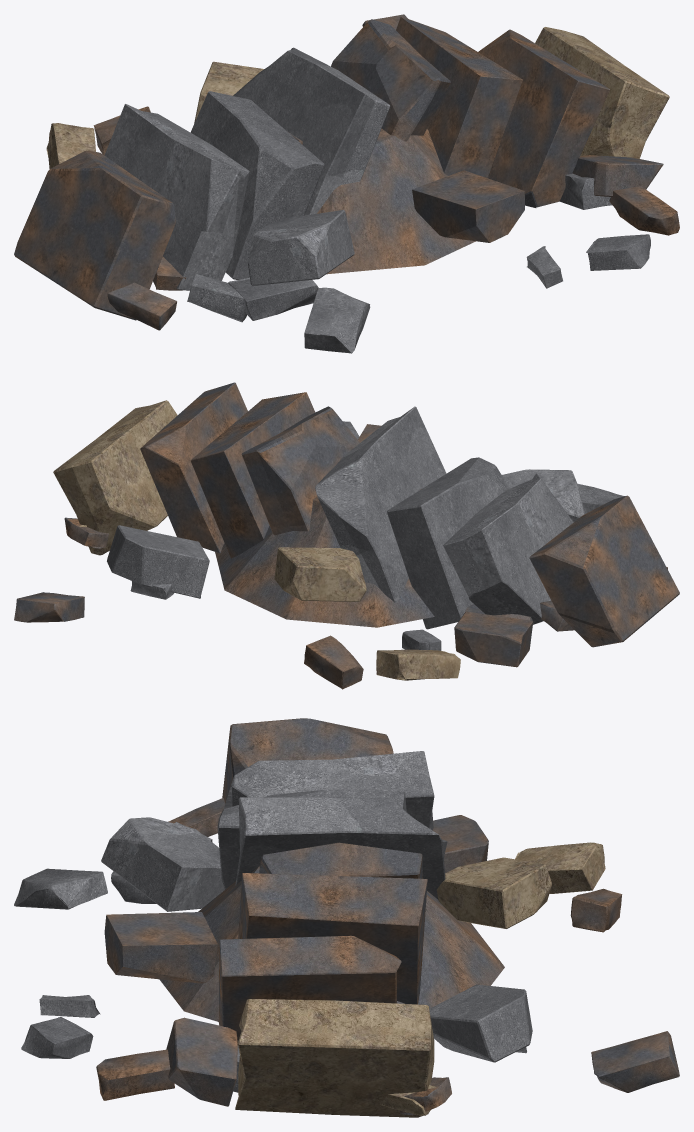
File: cima-diente-llardana.glb
3 renders of one model, top to bottom at view 1: azimuth 30°, elevation 25°; view 2: azimuth 150°, elevation 25°; view 3: azimuth 270°, elevation 25°, orthographic. The views are drawn at different scales.
Visible parts, largest first — view 1: hito_pizarra, hito_caliza_gris, hito_granito_ocre, bloque5, bloque6, bloque2, bloque16, bloque1, bloque15, bloque4, bloque10, bloque11 (+2 smaller); view 2: hito_pizarra, hito_caliza_gris, hito_granito_ocre, bloque4, bloque0, bloque3, bloque7, bloque14, bloque5, bloque12, bloque9; view 3: hito_pizarra, hito_caliza_gris, hito_granito_ocre, bloque3, bloque4, bloque5, bloque2, bloque16, bloque0, bloque11, bloque1, bloque7 (+2 smaller).
Boxes of the visible parts, x1,y1,x2,y2 form: hito_pizarra: [14, 16, 663, 320]; hito_caliza_gris: [104, 47, 390, 290]; hito_granito_ocre: [194, 27, 669, 158]; bloque5: [304, 287, 370, 353]; bloque6: [228, 277, 318, 320]; bloque2: [609, 186, 679, 235]; bloque16: [586, 234, 650, 270]; bloque1: [107, 282, 176, 330]; bloque15: [187, 274, 246, 322]; bloque4: [46, 123, 95, 168]; bloque10: [559, 173, 611, 209]; bloque11: [526, 246, 562, 288]; hito_pizarra: [140, 382, 679, 667]; hito_caliza_gris: [107, 406, 584, 629]; hito_granito_ocre: [53, 400, 366, 601]; bloque4: [376, 649, 460, 680]; bloque0: [304, 635, 363, 689]; bloque3: [14, 592, 84, 622]; bloque7: [64, 517, 108, 548]; bloque14: [402, 629, 441, 650]; bloque5: [577, 483, 624, 513]; bloque12: [540, 601, 574, 631]; bloque9: [130, 581, 173, 599]; hito_pizarra: [104, 718, 504, 1106]; hito_caliza_gris: [101, 751, 532, 1062]; hito_granito_ocre: [235, 857, 551, 1117]; bloque3: [591, 1031, 679, 1092]; bloque4: [515, 842, 605, 893]; bloque5: [14, 868, 107, 909]; bloque2: [96, 1049, 174, 1100]; bloque16: [21, 1016, 93, 1058]; bloque0: [570, 888, 622, 932]; bloque11: [39, 995, 100, 1017]; bloque1: [168, 798, 224, 836]; bloque7: [399, 1077, 451, 1115].
Size of the model in its own units: 3.59 by 0.9844 by 3.19.
3 materials, 3 textured.
